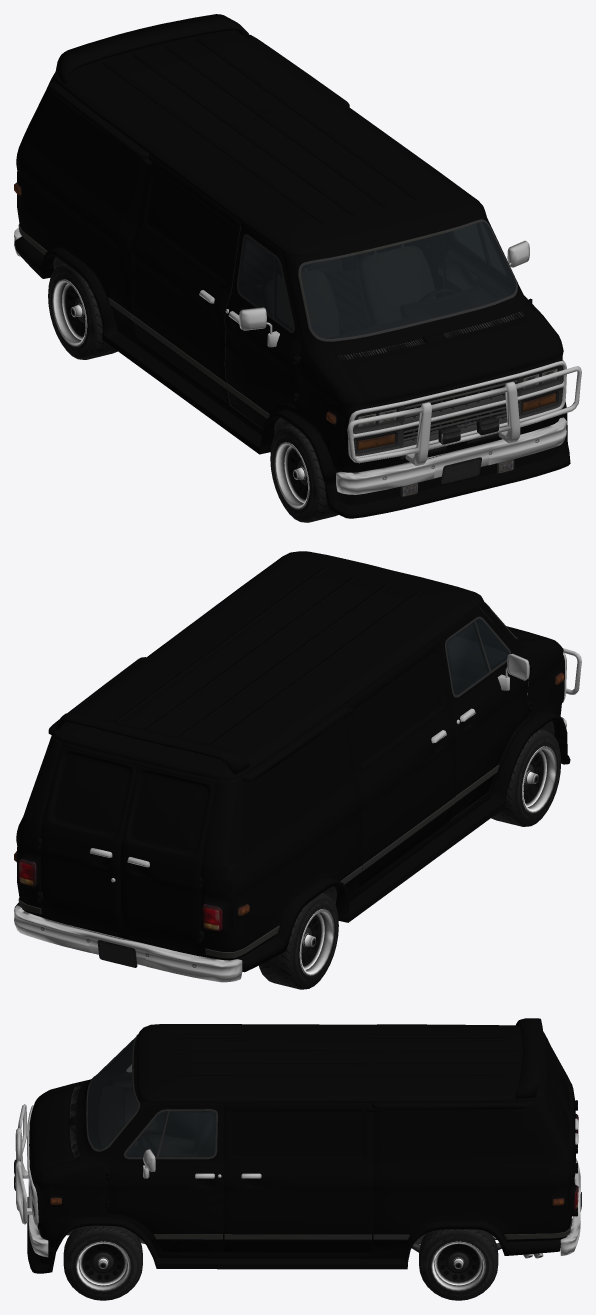
File: veicolo_epoca_furgone_porte.glb
3 views of the same model, one above another, from view 1: azimuth 30°, elevation 25°; view 2: azimuth 150°, elevation 25°; view 3: azimuth 270°, elevation 25° (orthographic). The views are drawn at different scales.
Parts seen in each view (by area): view 1: sb_modello; view 2: sb_modello; view 3: sb_modello.
Part boxes in pixels (box(x1,y1,x2,y2)): sb_modello: box(14, 14, 581, 522); sb_modello: box(14, 551, 581, 989); sb_modello: box(14, 1018, 581, 1300).
Size of the model in its own units: 2.35 by 2.02 by 5.01.
Materials: 6 (5 with a texture image).
